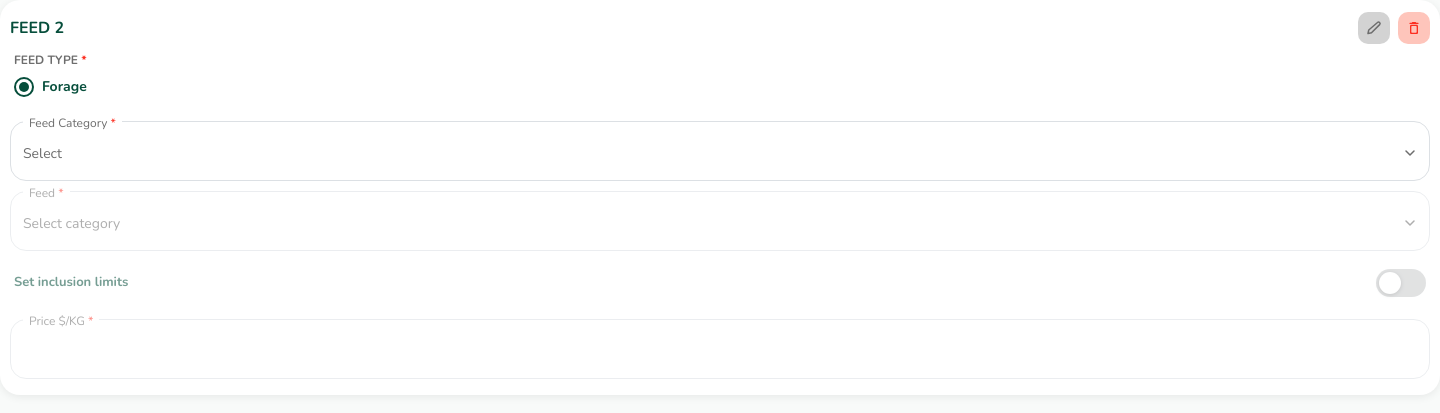
Test case: bare single-object cascade responses (singleton REST quirk) › wraps a bare category object instead of showing an empty dropdown
The width and height of the screenshot is (1440, 413).
Click the button "Select". click: (42, 153)
box: [23, 142, 1417, 164]
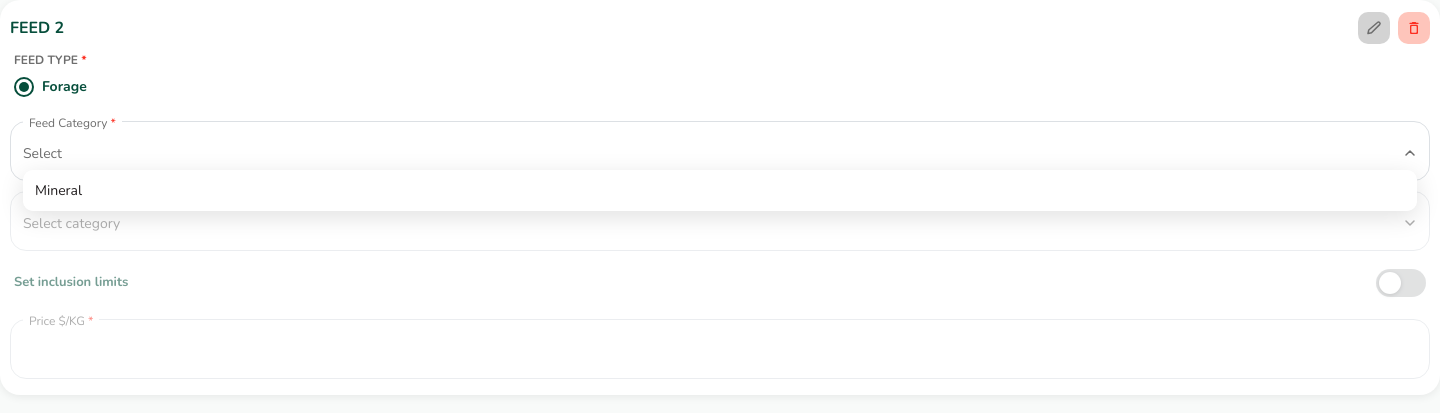
expect the option "Mineral" is shown: met, box [23, 170, 1417, 210]
